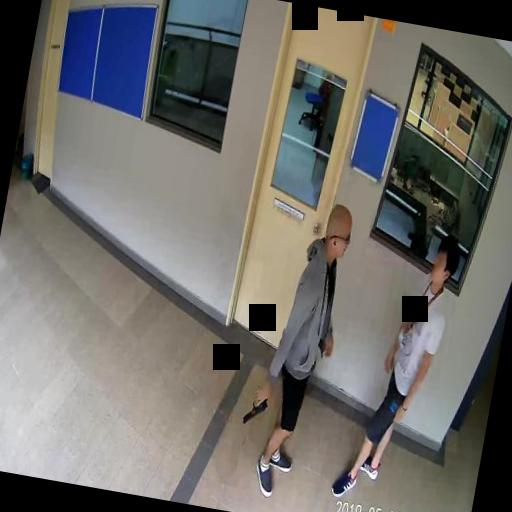Handgun: (240, 382, 269, 426)
